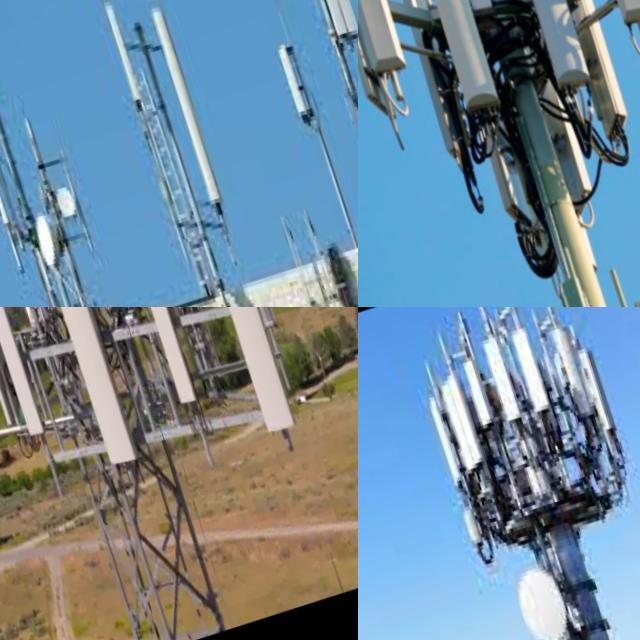GSM Antenna: (9, 307, 146, 484), (358, 0, 484, 183), (167, 307, 299, 447), (517, 0, 640, 147), (142, 5, 223, 207), (377, 0, 507, 120), (470, 0, 596, 94), (108, 307, 205, 422), (0, 307, 58, 454), (541, 314, 600, 429), (473, 321, 528, 438), (431, 363, 489, 470), (502, 318, 552, 422), (98, 0, 146, 108), (416, 381, 464, 488), (269, 32, 315, 127), (274, 0, 358, 51), (458, 355, 501, 435), (0, 63, 16, 232)
Microwave Antenna: (498, 549, 588, 640), (20, 191, 70, 295), (46, 176, 87, 226)
